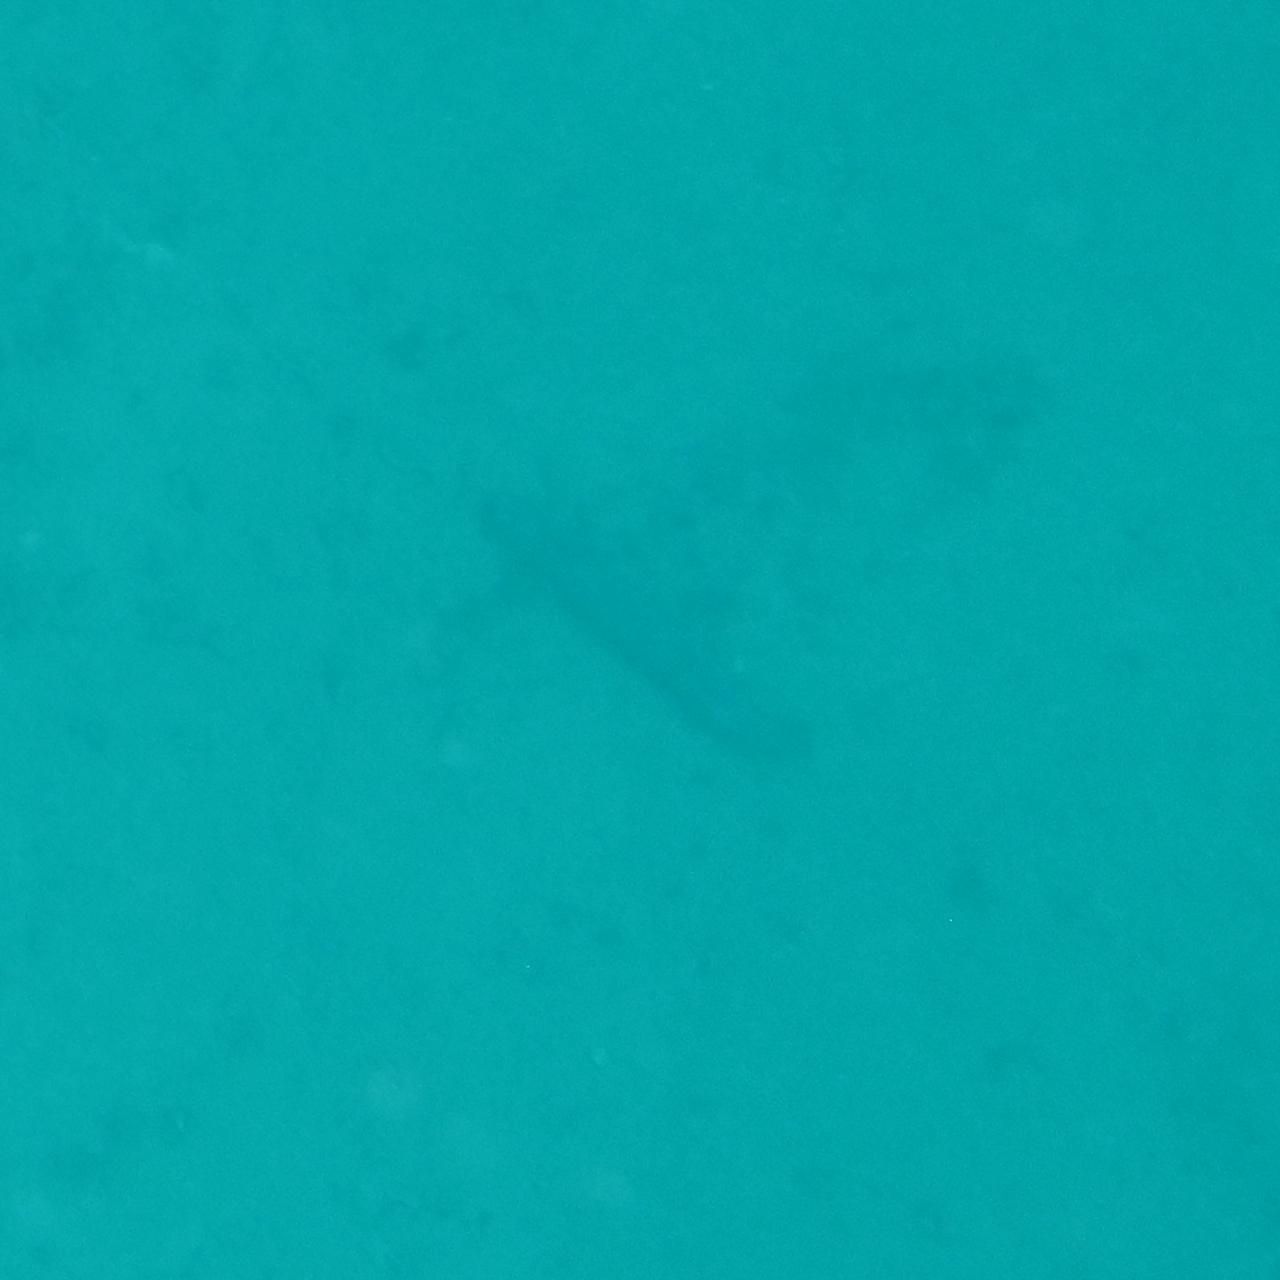Holothuria tubulosa: (466, 492, 814, 788)
